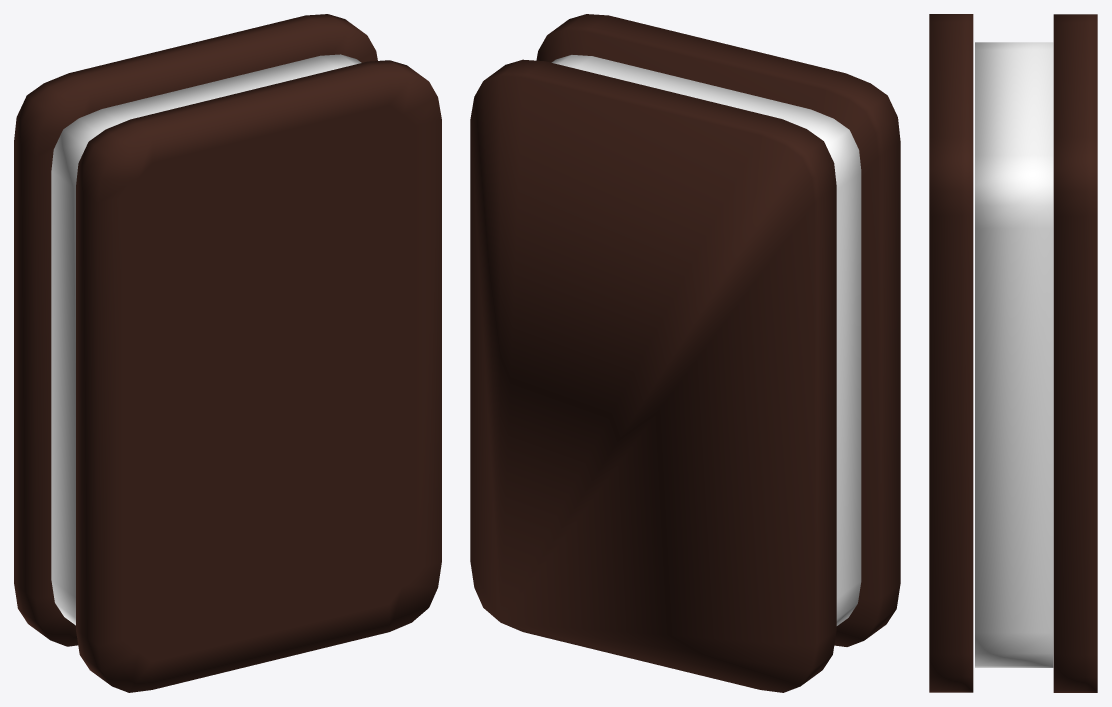
File: IcecreamSandwich.fbx
3 views of the same model, side by side, from view 1: azimuth 30°, elevation 25°; view 2: azimuth 150°, elevation 25°; view 3: azimuth 270°, elevation 25° (orthographic).
Parts seen in each view (by area): view 1: CookieL, CookieL.001, Cream; view 2: CookieL.001, CookieL, Cream; view 3: Cream, CookieL, CookieL.001.
Boxes of the visible parts, x1,y1,x2,y2 form: CookieL: [76, 60, 441, 692]; CookieL.001: [14, 14, 377, 646]; Cream: [51, 54, 361, 625]; CookieL.001: [470, 59, 836, 692]; CookieL: [536, 14, 900, 646]; Cream: [551, 55, 861, 625]; Cream: [975, 42, 1053, 667]; CookieL: [929, 14, 973, 692]; CookieL.001: [1053, 14, 1097, 692].
Bounding box in the file's own units: 141 × 217 × 60.26.
